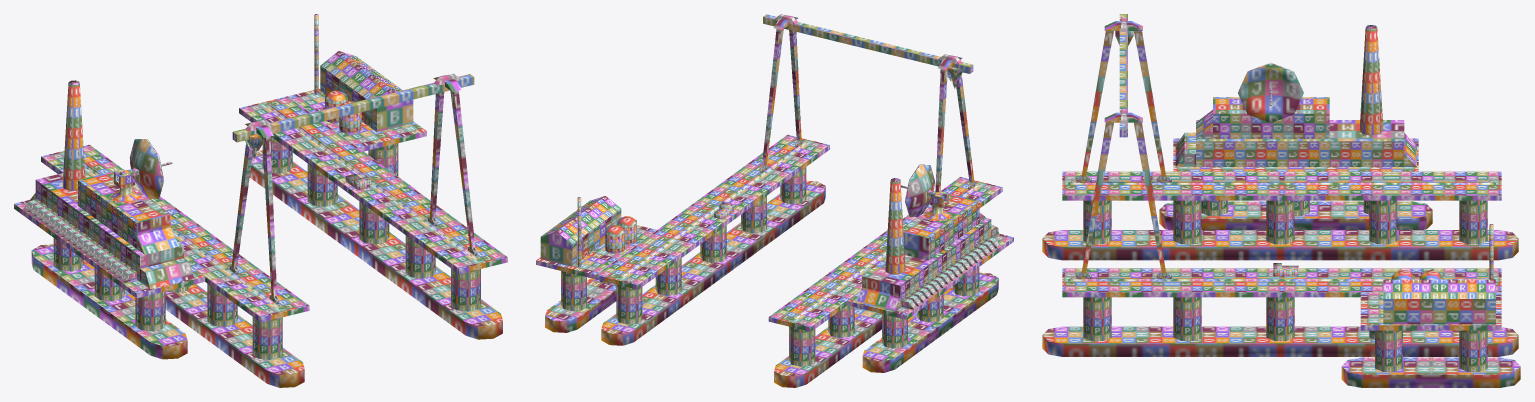
The model's file is shipyard_v2.obj.
3 renders of one model, left to right at view 1: azimuth 30°, elevation 25°; view 2: azimuth 150°, elevation 25°; view 3: azimuth 270°, elevation 25°, orthographic. The views are drawn at different scales.
Visible parts, largest first — view 1: boxes_boxes_auv, boxes_boxes_sep317_auv, boxes_cylinder99_auv; view 2: boxes_boxes_auv, boxes_boxes_sep317_auv, boxes_cylinder99_auv; view 3: boxes_boxes_auv, boxes_cylinder99_auv.
Part boxes in pixels (left/top/right/bottom): boxes_boxes_auv: left=14, top=14, right=507, bottom=387; boxes_boxes_sep317_auv: left=23, top=199, right=136, bottom=282; boxes_cylinder99_auv: left=62, top=80, right=85, bottom=191; boxes_boxes_auv: left=536, top=14, right=1013, bottom=387; boxes_boxes_sep317_auv: left=901, top=237, right=1001, bottom=309; boxes_cylinder99_auv: left=885, top=178, right=905, bottom=274; boxes_boxes_auv: left=1042, top=14, right=1520, bottom=387; boxes_cylinder99_auv: left=1359, top=25, right=1383, bottom=135.
Size of the model in its own units: 196 by 114 by 212.
4 materials, 4 textured.
